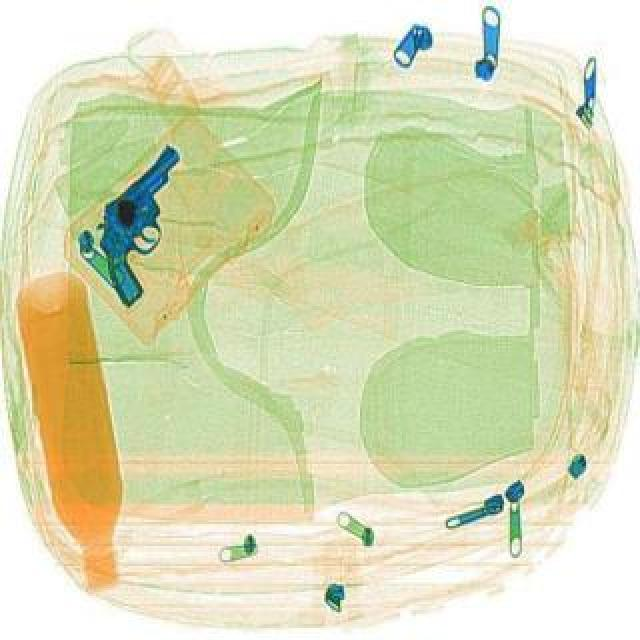gun: (70, 134, 206, 306)
